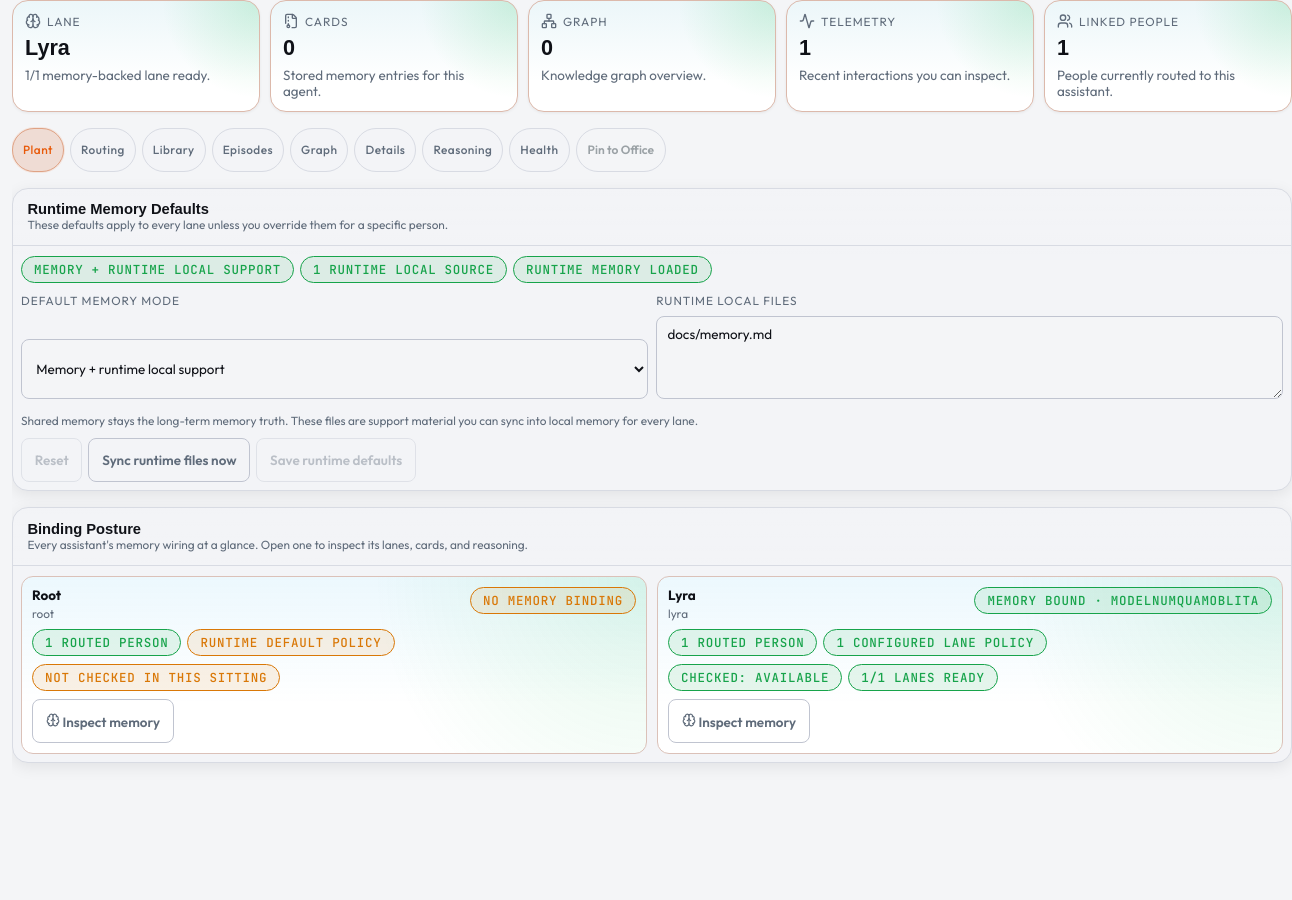
Test case: MemoryPage surface gating and honest partial states › locks each native surface that the gateway does not offer
The image size is (1292, 900).
Click the button "Library". click: (174, 150)
box: [142,128,206,172]
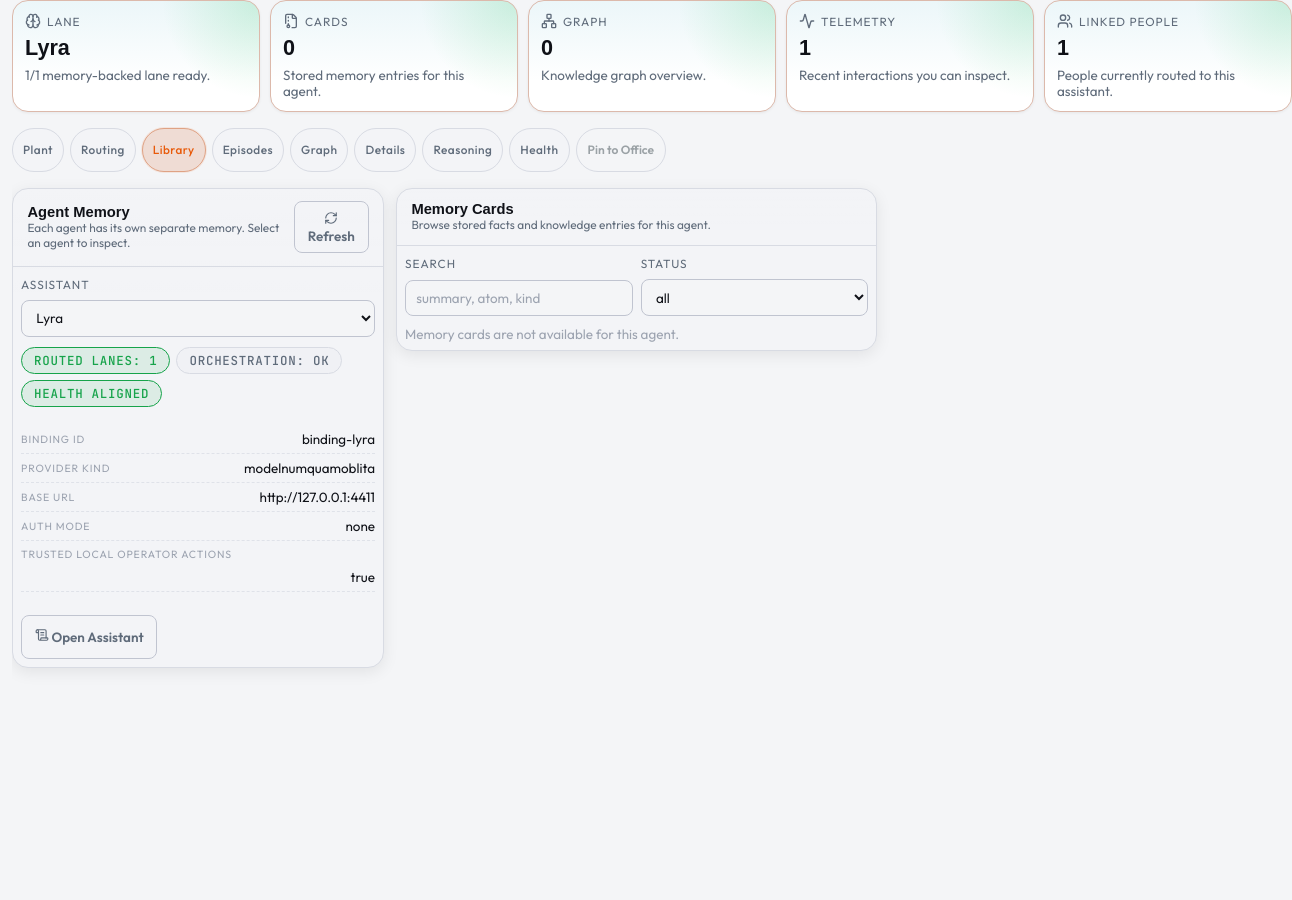
Now the text "Memory cards are not available for this agent." is shown, box [405,326,679,342]
Click the button "Episodes". click: (248, 150)
box: [212,128,284,172]
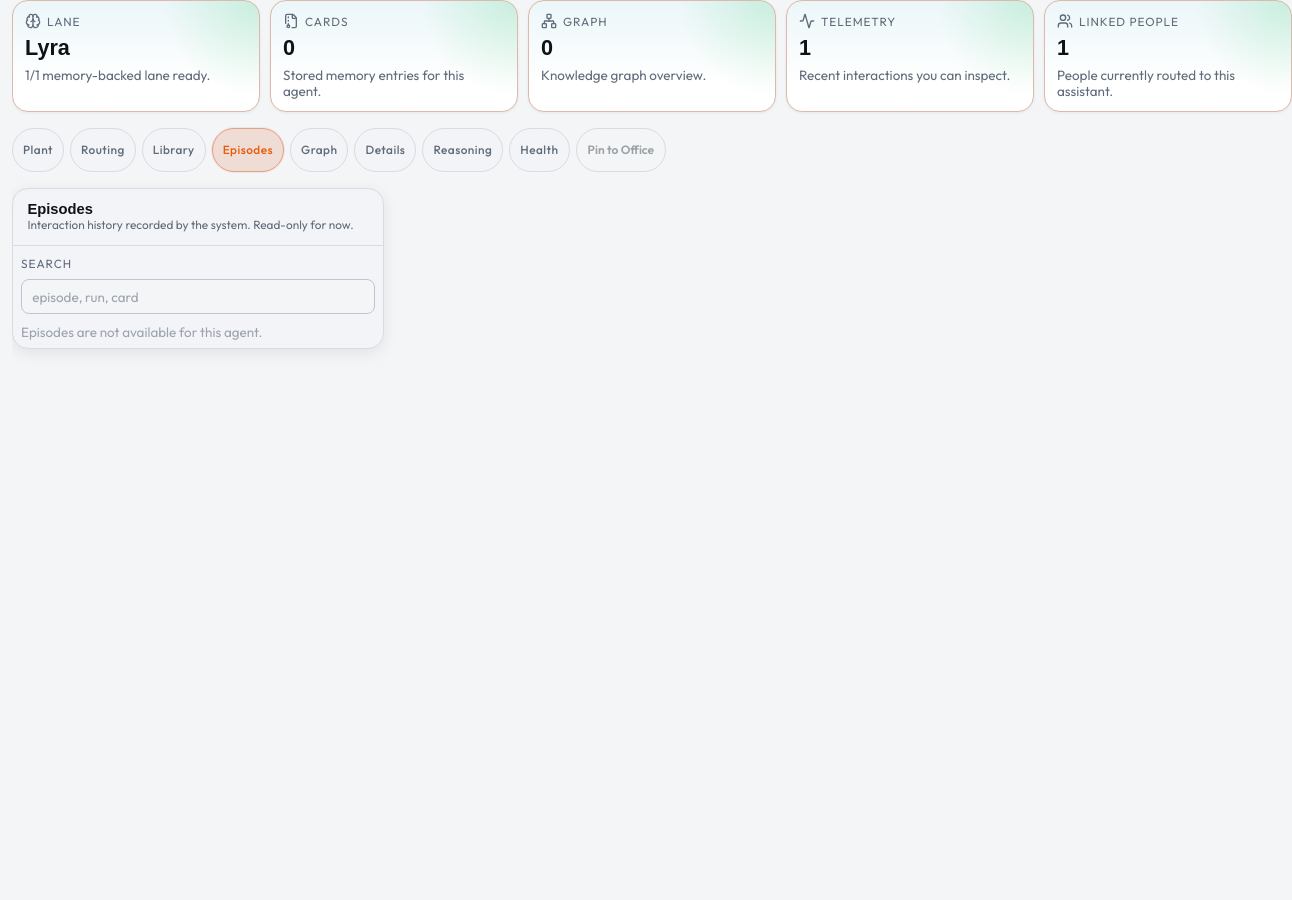
Now the text "Episodes are not available for this agent." is shown, box [21,324,262,340]
Click the button "Graph". click: (319, 150)
box: [290,128,348,172]
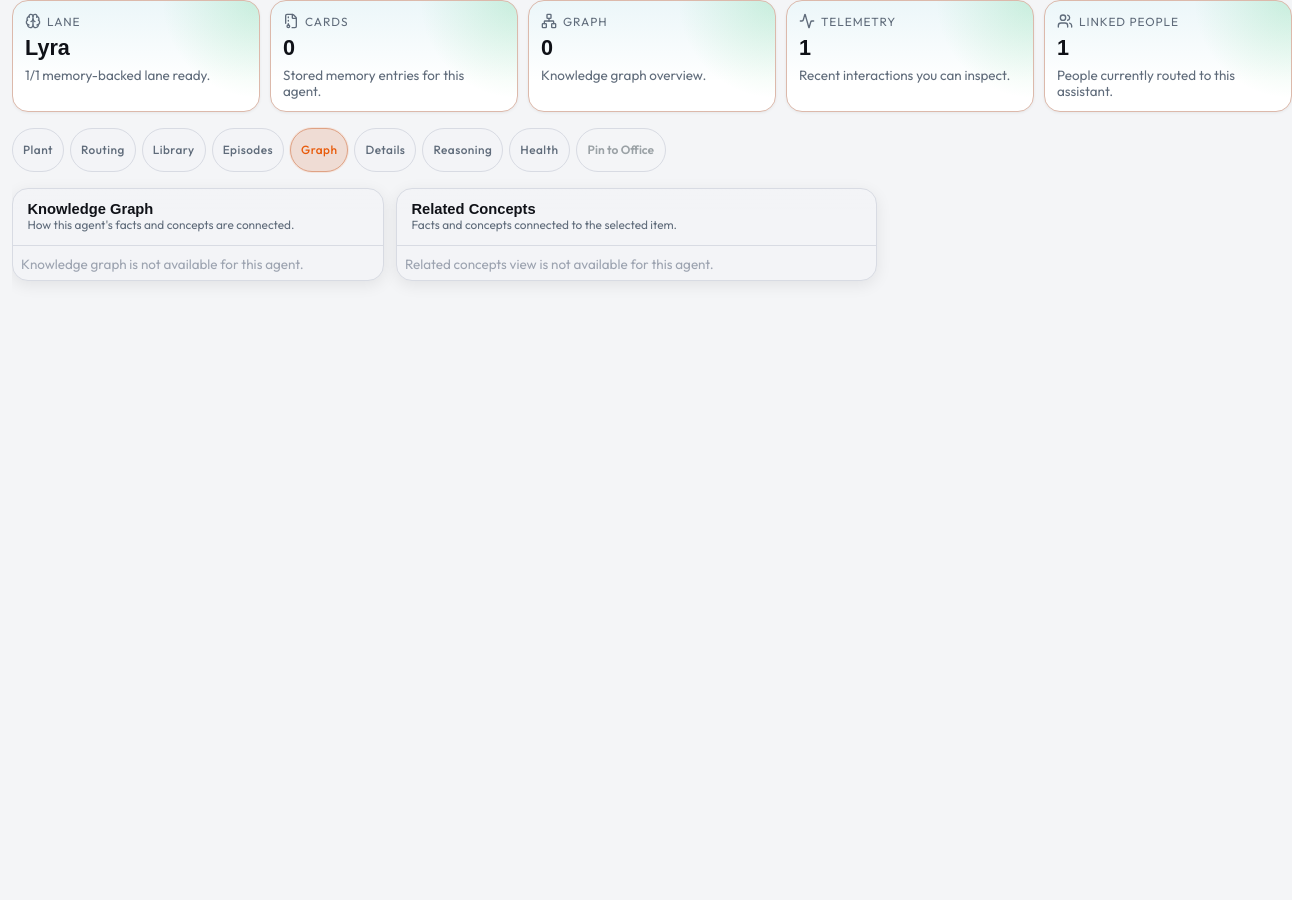
Now the text "Knowledge graph is not available for this agent." is shown, box [21,256,304,272]
Now the text "Related concepts view is not available for this agent." is shown, box [405,256,714,272]
Click the button "Reasoning". click: (463, 150)
box: [422,128,503,172]
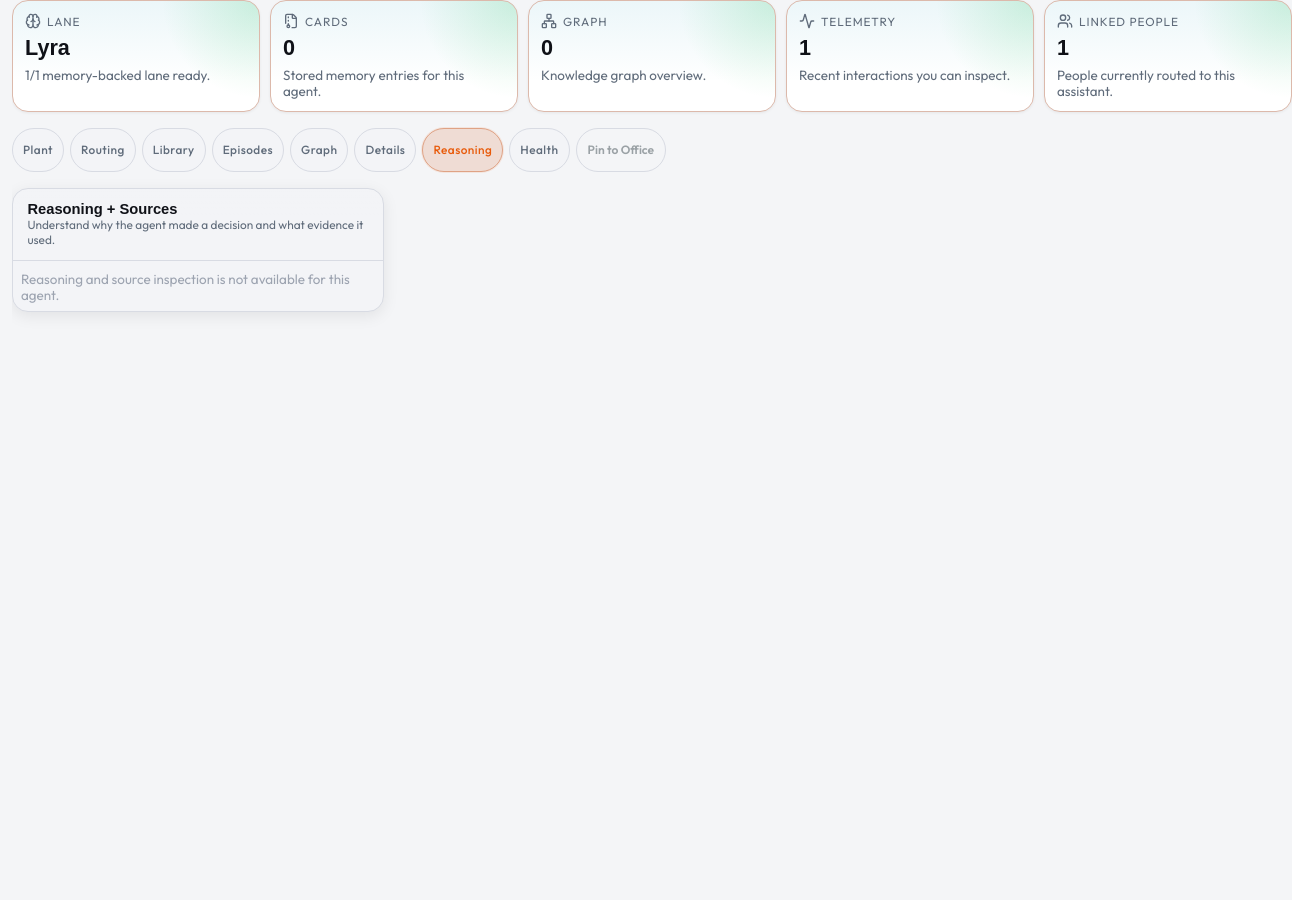
Now the text "Reasoning and source inspection is not available for this agent." is shown, box [21,271,375,303]
